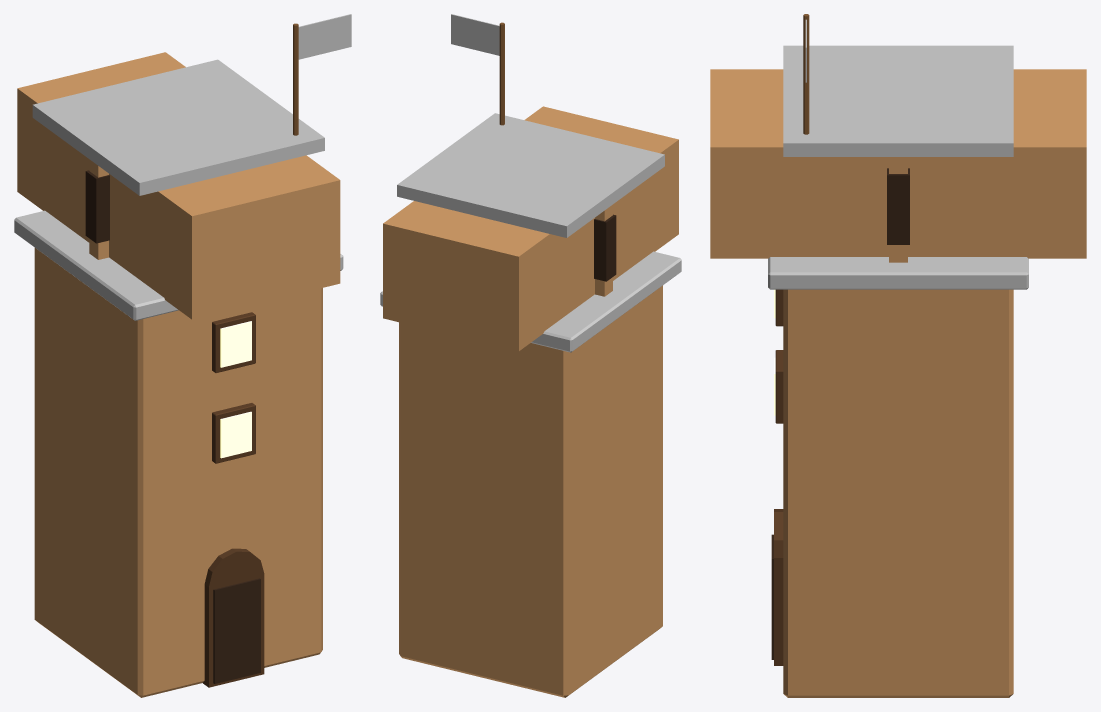
The model's file is map3_house_tower_v01.glb.
The picture shows the model from 3 angles, left to right: view 1: azimuth 30°, elevation 25°; view 2: azimuth 150°, elevation 25°; view 3: azimuth 270°, elevation 25°; orthographic projection. The views are drawn at different scales.
Parts seen in each view (by area): view 1: house_tower; view 2: house_tower; view 3: house_tower.
Part boxes in pixels (x1,y1,x2,y2): house_tower: (14,14,351,697); house_tower: (380,14,681,697); house_tower: (710,14,1086,697).
Size of the model in its own units: 3.8 by 9.7 by 4.9.
